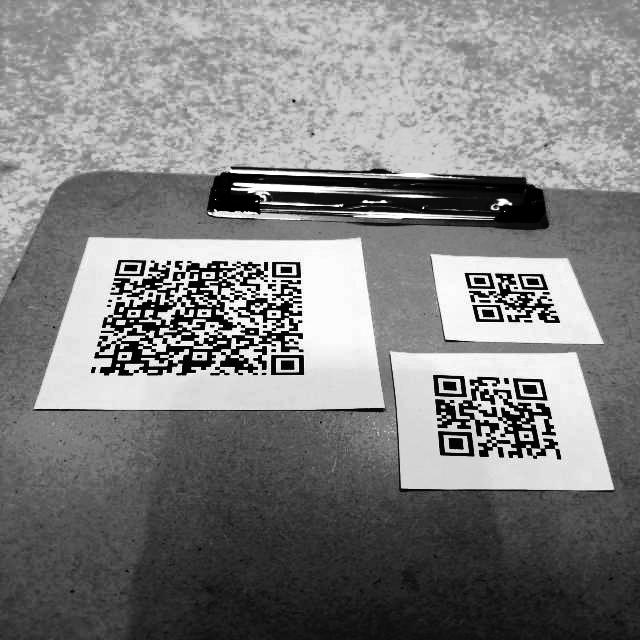qr_code: (84, 244, 314, 385), (418, 365, 576, 469), (451, 259, 574, 336)
